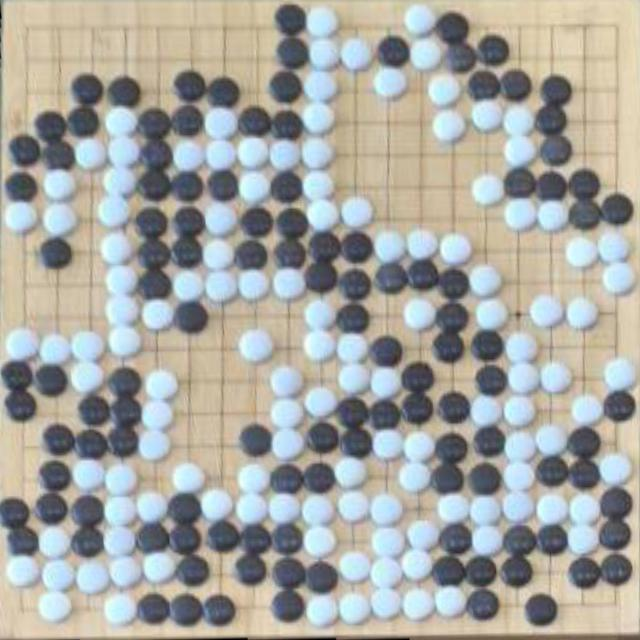blackstone: (34, 492, 70, 526), (38, 459, 73, 493), (271, 589, 306, 623), (167, 492, 203, 525), (566, 426, 602, 459), (70, 494, 106, 527), (74, 428, 110, 461), (138, 168, 174, 201), (502, 524, 538, 557), (438, 523, 474, 556), (174, 301, 210, 334), (468, 462, 502, 496), (305, 560, 339, 594), (466, 588, 500, 622), (41, 424, 76, 457), (39, 236, 74, 269), (138, 108, 174, 140), (137, 267, 173, 299), (34, 364, 68, 397), (304, 261, 338, 294), (140, 137, 174, 170), (600, 192, 634, 225), (500, 554, 533, 588), (524, 593, 558, 626), (107, 366, 142, 398), (171, 104, 206, 136), (107, 76, 142, 108), (70, 526, 105, 558), (272, 556, 307, 588), (237, 523, 272, 555), (9, 134, 42, 167), (276, 36, 309, 69), (5, 389, 38, 422), (67, 106, 101, 138), (270, 171, 304, 203), (34, 110, 68, 142), (306, 421, 340, 453), (138, 238, 172, 270), (536, 455, 570, 487), (431, 462, 465, 494), (174, 70, 208, 102), (269, 70, 303, 102), (239, 424, 273, 456), (432, 331, 466, 363), (374, 262, 408, 294), (71, 73, 105, 105), (602, 390, 636, 422), (176, 555, 210, 587), (138, 592, 172, 624), (170, 594, 204, 626), (203, 594, 237, 626), (402, 391, 434, 425), (238, 106, 273, 137), (406, 259, 441, 290), (338, 269, 373, 300), (435, 12, 470, 43), (78, 394, 110, 427), (303, 462, 336, 494), (599, 486, 632, 518), (5, 170, 38, 202), (539, 134, 572, 166), (107, 425, 140, 457), (235, 553, 268, 585), (568, 557, 601, 589), (600, 553, 632, 586), (370, 335, 402, 368), (135, 207, 169, 238), (275, 207, 309, 238), (336, 303, 370, 334), (470, 330, 504, 361), (171, 171, 205, 202), (240, 207, 274, 238), (1, 360, 35, 391), (273, 238, 307, 269), (432, 556, 466, 587), (270, 463, 304, 494), (42, 140, 77, 170), (208, 169, 240, 201), (536, 170, 568, 202), (438, 392, 470, 424), (272, 523, 304, 555), (537, 523, 569, 555), (478, 34, 510, 66), (169, 524, 201, 556), (206, 521, 238, 553), (435, 432, 468, 463), (504, 167, 537, 198), (468, 69, 501, 100), (445, 42, 478, 73), (598, 519, 631, 550), (569, 458, 600, 491), (434, 302, 468, 332), (474, 365, 508, 395), (234, 240, 268, 270), (534, 104, 568, 134), (568, 200, 602, 230), (6, 526, 40, 556), (342, 232, 374, 263), (500, 69, 532, 100), (0, 496, 31, 528), (308, 232, 340, 263), (466, 556, 497, 588), (173, 206, 206, 236), (401, 361, 434, 391), (568, 168, 601, 198), (271, 110, 304, 140), (438, 268, 471, 298), (207, 76, 240, 106), (274, 4, 307, 34), (173, 236, 203, 269), (370, 399, 401, 430), (137, 522, 168, 553), (340, 427, 372, 457), (540, 75, 572, 105), (377, 36, 409, 66), (111, 396, 141, 428), (337, 397, 369, 427), (473, 426, 504, 456)
whitestone: (76, 560, 113, 594), (42, 202, 78, 236), (529, 294, 565, 328), (71, 458, 107, 492), (108, 554, 144, 588), (42, 559, 78, 593), (104, 462, 139, 496), (103, 592, 138, 626), (272, 268, 308, 301), (598, 452, 632, 486), (106, 134, 140, 168), (370, 587, 404, 621), (5, 328, 40, 361), (70, 361, 105, 394), (269, 365, 304, 398), (97, 194, 132, 227), (271, 427, 306, 460), (204, 107, 239, 140), (5, 555, 40, 588), (70, 330, 106, 362), (142, 552, 178, 584), (37, 591, 73, 623), (603, 357, 636, 391), (100, 231, 134, 264), (203, 202, 237, 235), (138, 429, 172, 462), (369, 493, 403, 526), (337, 592, 371, 625), (402, 588, 436, 621), (305, 594, 339, 627), (335, 457, 369, 490), (239, 330, 274, 362), (402, 298, 437, 330), (503, 198, 538, 230), (204, 270, 239, 302), (200, 489, 235, 521), (503, 135, 538, 167), (302, 526, 337, 558), (372, 524, 404, 559), (471, 173, 504, 206), (202, 238, 235, 271), (238, 171, 271, 204), (534, 424, 567, 457), (439, 233, 473, 265), (469, 264, 503, 296), (432, 110, 466, 142), (172, 462, 206, 494), (39, 333, 73, 365), (172, 269, 206, 301), (43, 169, 77, 201), (74, 138, 108, 170), (504, 332, 538, 364), (602, 262, 636, 294), (205, 137, 239, 169), (304, 69, 338, 101), (469, 395, 503, 427), (536, 494, 570, 526), (338, 490, 372, 522), (370, 556, 404, 588), (38, 526, 72, 558), (238, 462, 272, 494), (107, 325, 142, 356), (372, 68, 407, 99), (141, 398, 176, 429), (144, 369, 179, 400), (303, 387, 338, 418), (235, 493, 270, 524), (565, 236, 598, 268), (341, 196, 374, 228), (566, 296, 598, 329), (238, 269, 271, 301), (570, 394, 603, 426), (471, 99, 504, 131), (507, 362, 540, 394), (302, 171, 335, 203), (340, 37, 372, 70), (398, 461, 431, 493), (301, 138, 334, 170), (237, 136, 270, 168), (135, 491, 168, 523), (105, 264, 138, 296), (302, 330, 336, 361), (474, 299, 508, 330), (428, 74, 462, 105), (303, 299, 337, 330), (306, 199, 340, 230), (301, 103, 335, 134), (372, 429, 406, 460), (338, 551, 372, 582), (502, 491, 536, 522), (303, 492, 334, 526), (104, 106, 139, 136), (540, 362, 572, 394), (597, 230, 629, 262), (270, 139, 302, 171), (568, 494, 600, 526), (306, 5, 338, 37), (104, 525, 136, 557), (438, 493, 470, 525), (5, 201, 38, 232), (141, 299, 174, 330), (338, 362, 371, 393), (503, 105, 536, 136), (403, 431, 436, 462), (503, 395, 536, 426), (308, 38, 341, 69), (404, 3, 437, 34), (105, 494, 136, 527), (270, 398, 304, 428), (104, 167, 138, 197), (105, 297, 140, 326), (374, 230, 406, 261), (407, 228, 438, 260), (410, 39, 442, 70), (537, 200, 568, 232), (370, 367, 402, 398), (568, 524, 600, 555), (174, 138, 205, 170), (336, 334, 369, 364), (407, 520, 440, 550), (469, 496, 502, 526), (436, 586, 466, 619), (403, 550, 434, 581), (270, 494, 302, 524), (504, 432, 535, 462), (503, 461, 535, 490), (472, 527, 502, 556)
